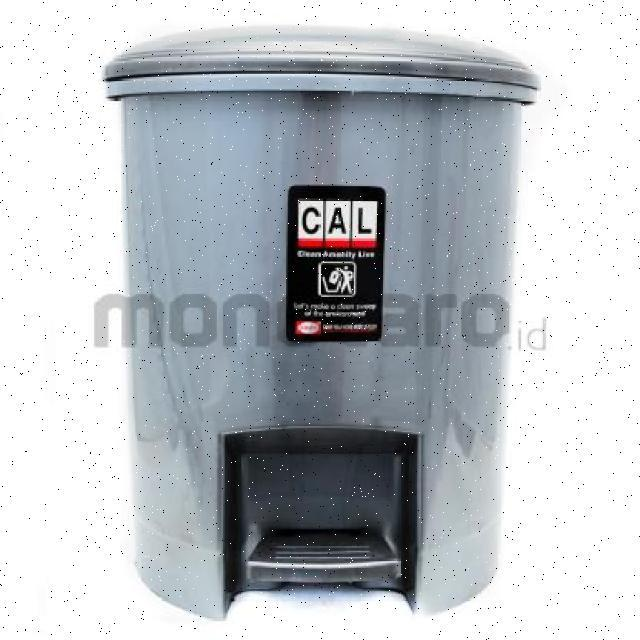garbage container: (79, 15, 555, 638)
